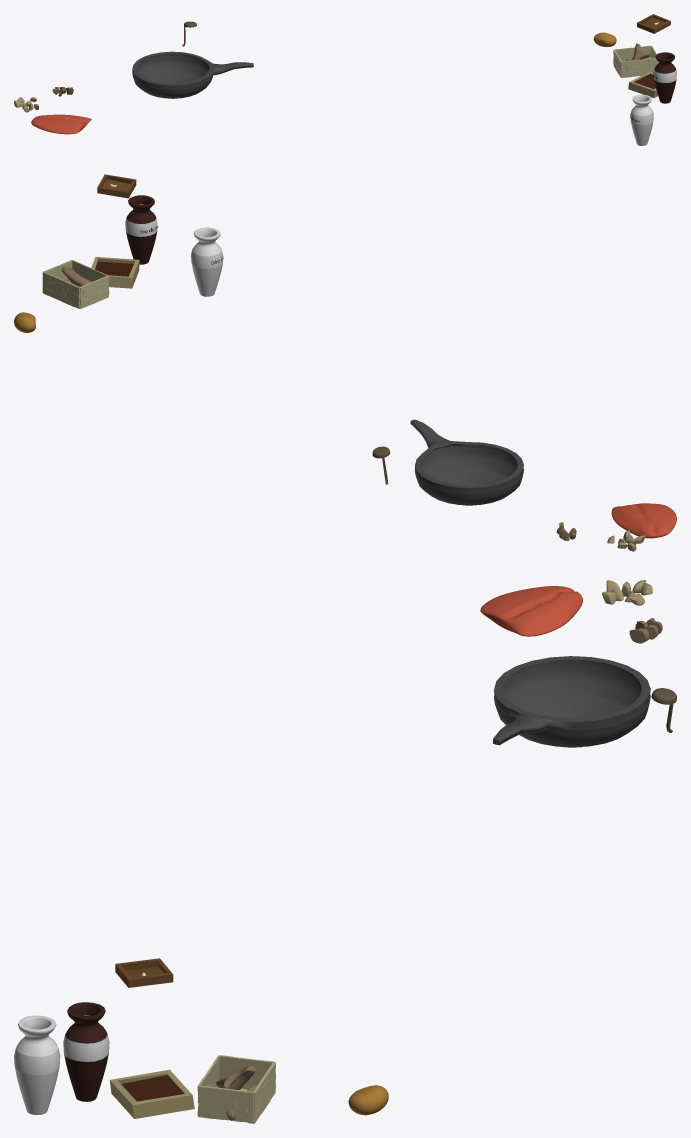
Rendered from pescadoingrediente.fbx.
3 views of the same model, one above another, from view 1: azimuth 30°, elevation 25°; view 2: azimuth 150°, elevation 25°; view 3: azimuth 270°, elevation 25° (orthographic). The views are drawn at different scales.
Visible parts, largest first — view 1: OLLA.001, ENVASEV1.003, Text.001, Text, Cube.005, CajaDaikon.002, CajaDaikon.001, Papa1, Cube.012; view 2: OLLA.001, ENVASEV1.003, Cube.005, Text.001, Text, CajaDaikon.002, CajaDaikon.001; view 3: OLLA.001, ENVASEV1.003, Cube.005, Text, Text.001, CajaDaikon.001, CajaDaikon.002, CajaDaikon.004, Papa1, Cube.012.
Part boxes in pixels (x1,y1,x2,y2): OLLA.001: (132, 51, 253, 98); ENVASEV1.003: (613, 45, 659, 77); Text.001: (630, 94, 653, 145); Text: (653, 52, 676, 103); Cube.005: (31, 114, 91, 134); CajaDaikon.002: (637, 14, 670, 33); CajaDaikon.001: (628, 71, 657, 97); Papa1: (593, 32, 616, 46); Cube.012: (14, 97, 38, 112); OLLA.001: (410, 419, 523, 505); ENVASEV1.003: (42, 260, 109, 308); Cube.005: (611, 503, 676, 538); Text.001: (191, 227, 223, 296); Text: (125, 195, 157, 264); CajaDaikon.002: (97, 174, 136, 198); CajaDaikon.001: (91, 257, 139, 288); OLLA.001: (493, 656, 650, 747); ENVASEV1.003: (197, 1055, 275, 1123); Cube.005: (480, 586, 582, 636); Text: (63, 1002, 109, 1101); Text.001: (14, 1015, 60, 1114); CajaDaikon.001: (109, 1069, 194, 1118); CajaDaikon.002: (115, 958, 173, 987); CajaDaikon.004: (121, 1075, 184, 1101); Papa1: (348, 1085, 388, 1115); Cube.012: (602, 580, 652, 605).
Size of the model in its own units: 6.72 by 1.1 by 3.67.
